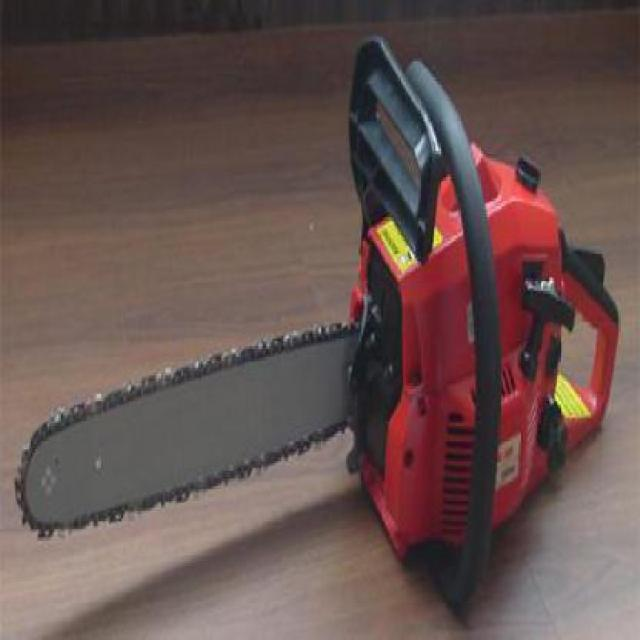Chainsaw: (12, 32, 620, 619)
